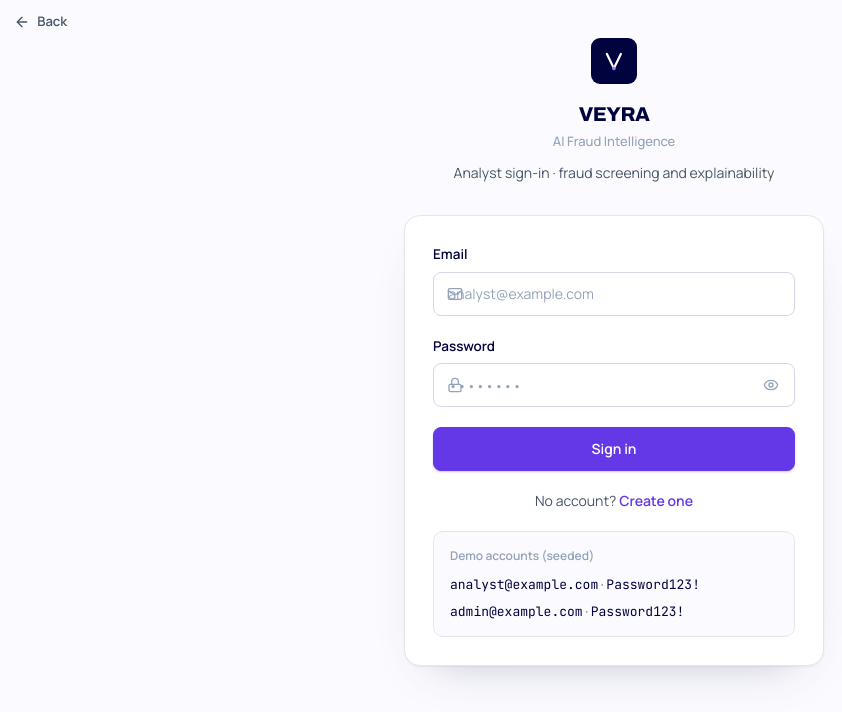
Scenario: Login page › surfaces server errors
Type "ana@example.com" into the field labelled "Email" at coordinates (614, 294), box [433,272,795,316]
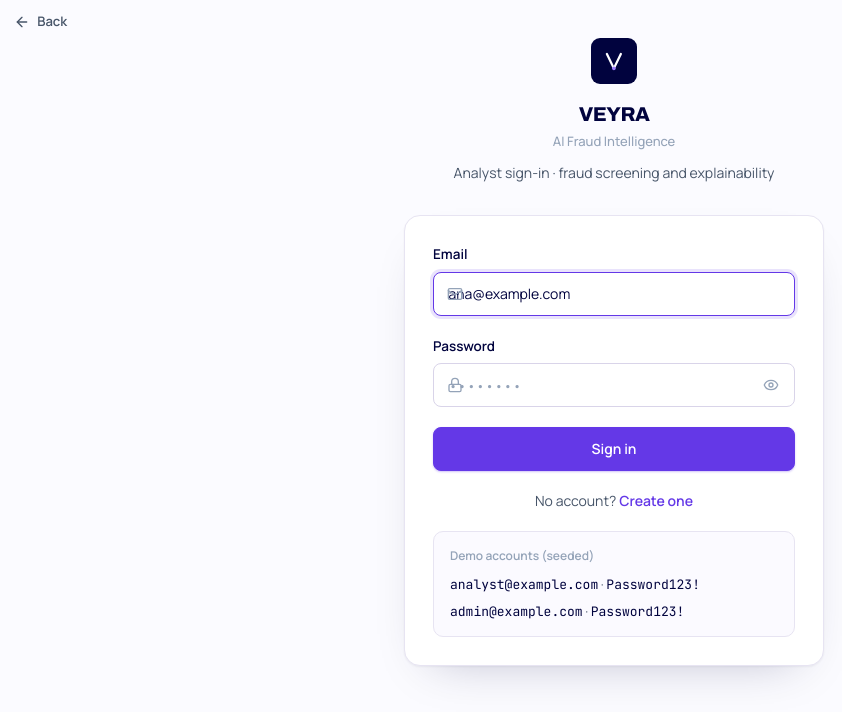
Type "Password123!" into the password field labelled "Password" at coordinates (614, 385), box [433,363,795,407]
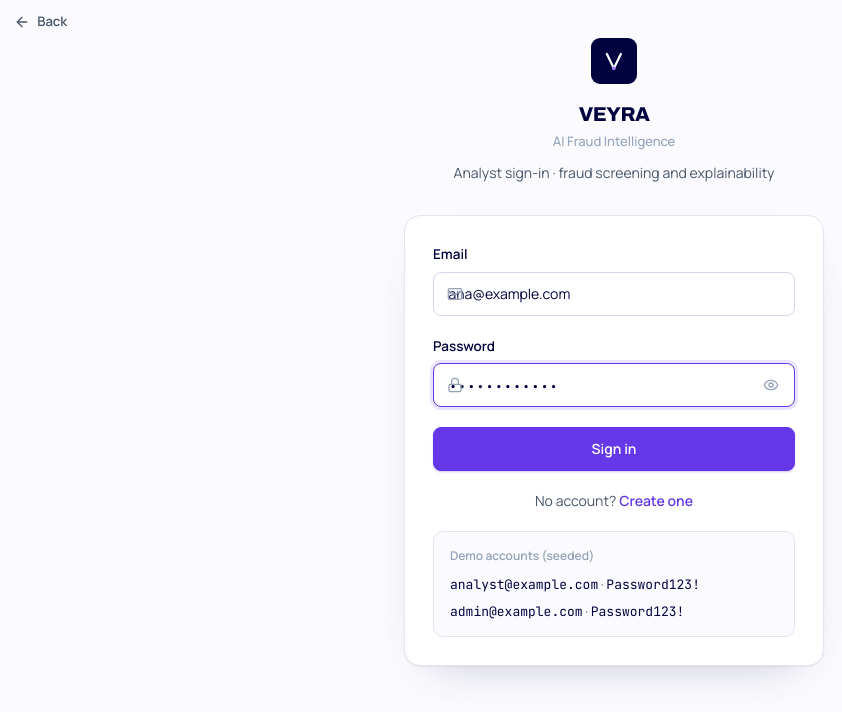
Click the button "Sign in" at coordinates (614, 449), box [433,427,795,471]
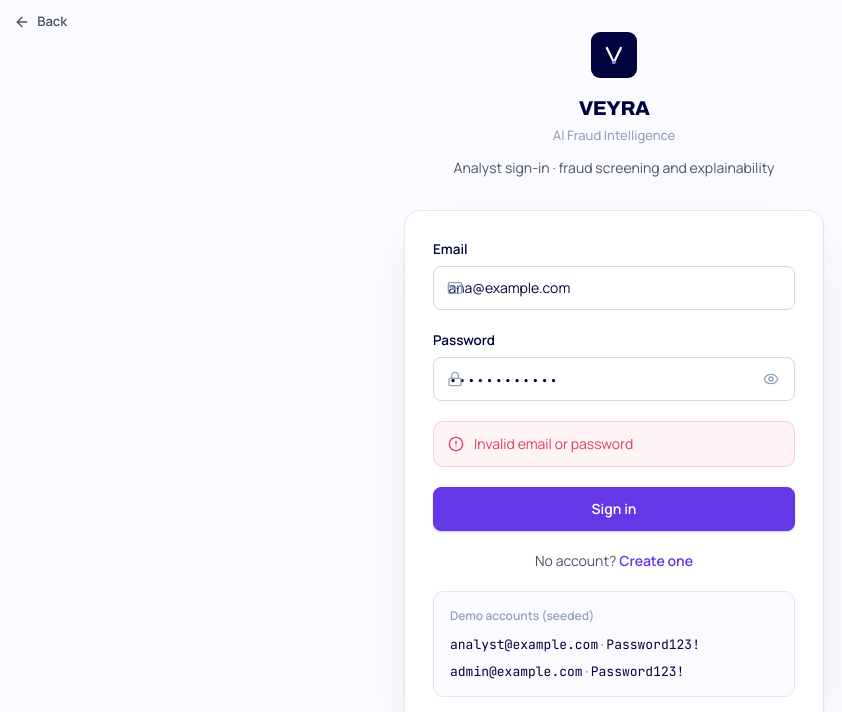
Result: the text "Invalid email or password" is shown at [433,421,795,467]
